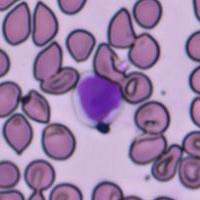L: (72, 71, 123, 125)
